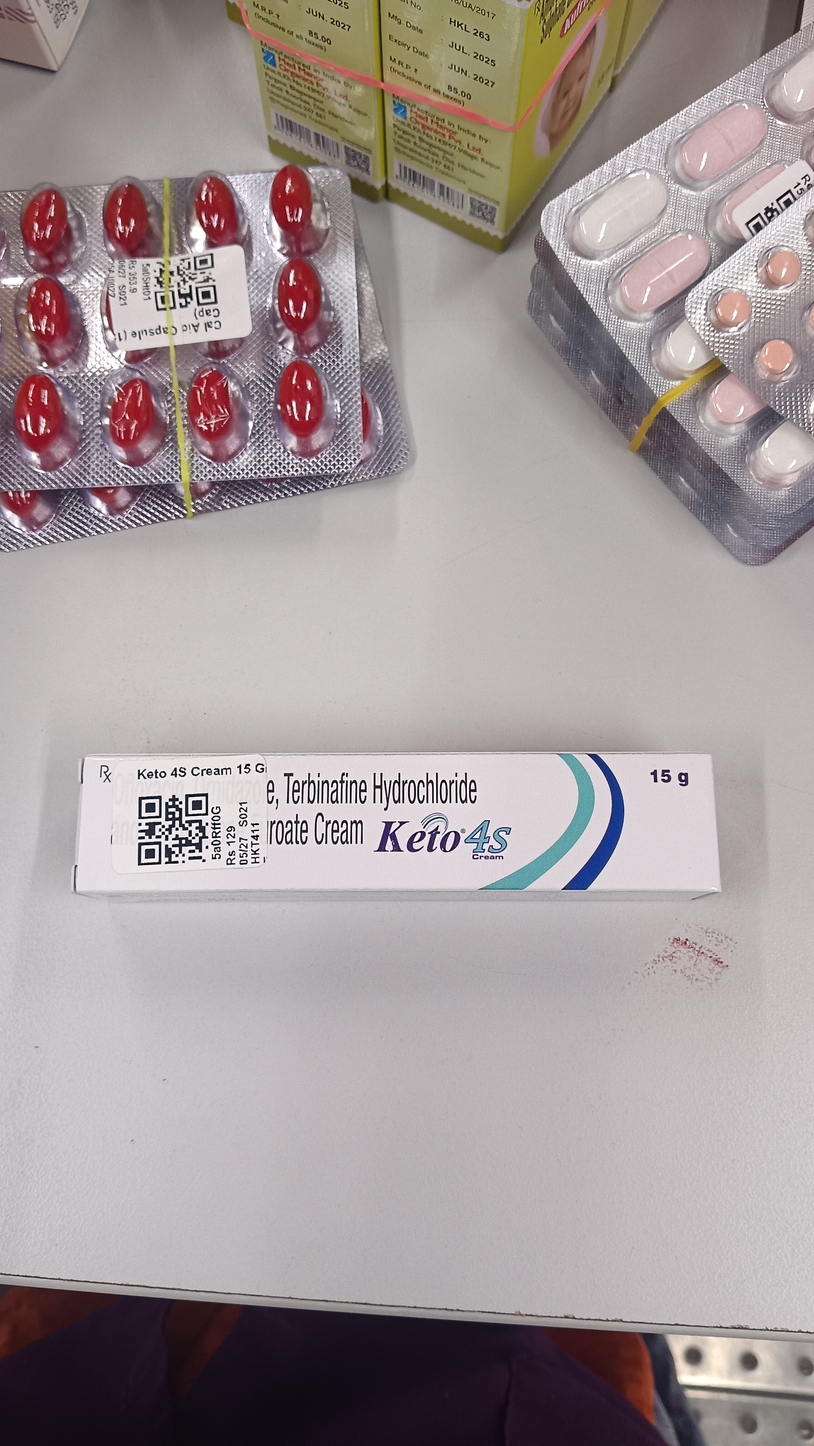qr_code: (137, 792, 209, 865)
